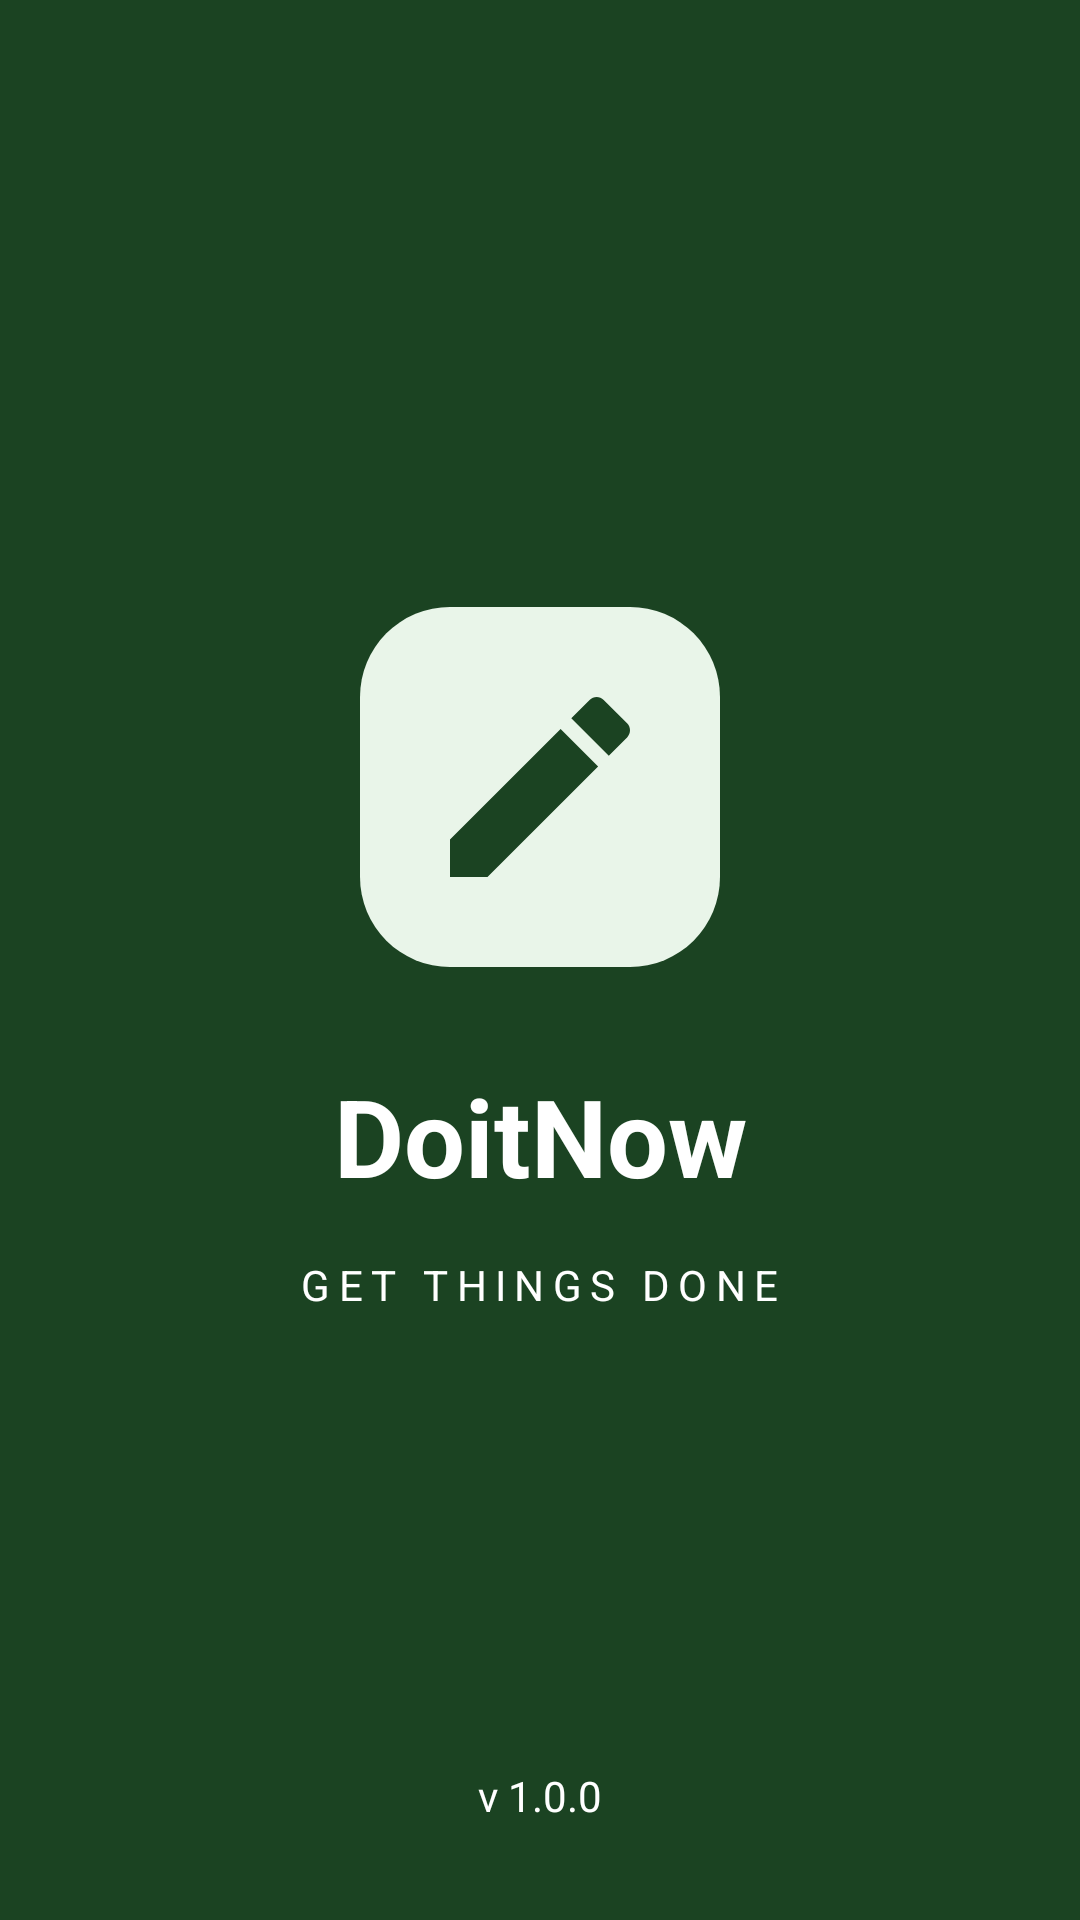

Named icons in this screenshot (1080*1920) and their centers, [x,y]:
pencil: [540,787]
